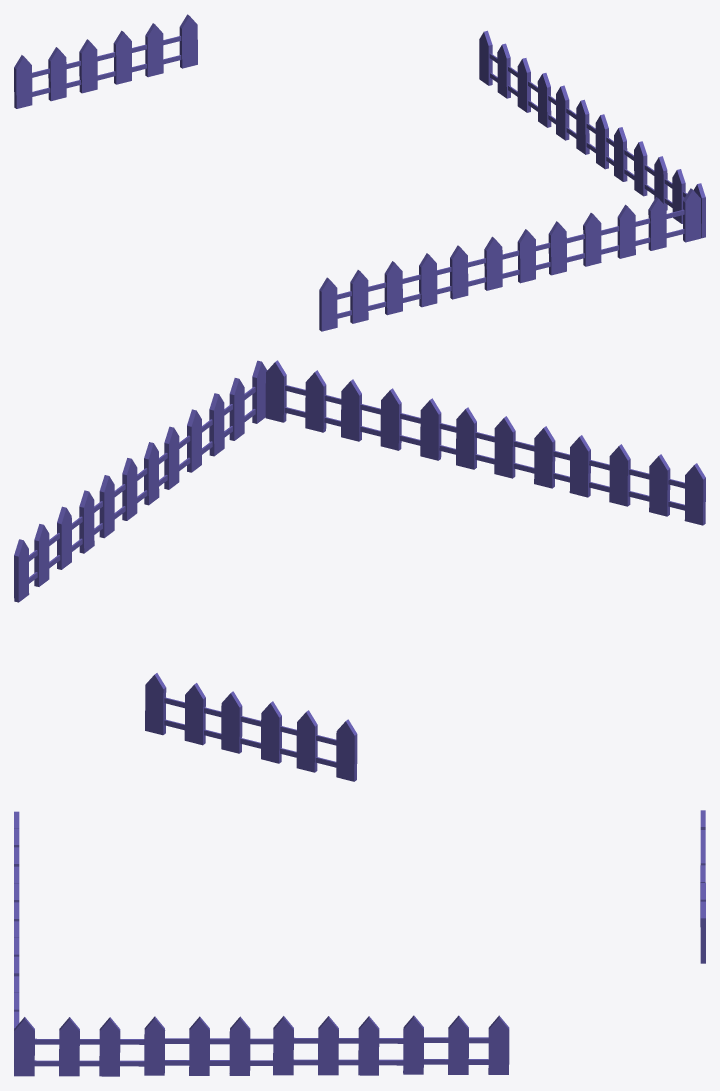
Rendered from Zabor_2.fbx.
3 views of the same model, one above another, from view 1: azimuth 30°, elevation 25°; view 2: azimuth 150°, elevation 25°; view 3: azimuth 270°, elevation 25° (orthographic). The views are drawn at different scales.
Visible parts, largest first — view 1: Cube.026; view 2: Cube.026; view 3: Cube.026.
Boxes of the visible parts, bbox=[...] form: Cube.026: bbox=[14, 14, 705, 331]; Cube.026: bbox=[14, 360, 705, 781]; Cube.026: bbox=[14, 810, 705, 1076].
Bounding box in the file's own units: 139 × 17.66 × 191.
